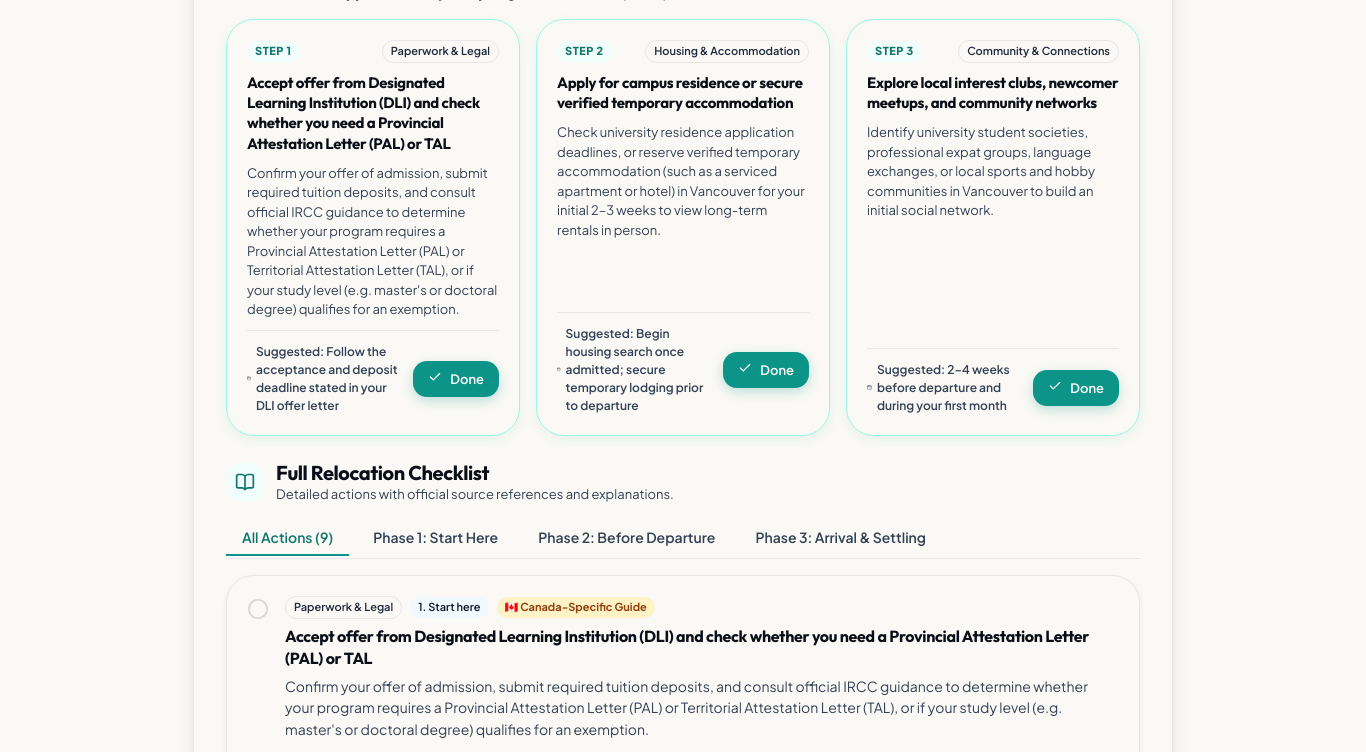
Test: Task 3.1: Planning Content, Guidance & Persistence Corrections › 1. Context Invalidation Followed by One-Click Completion › allows a newly invalidated task to be completed in a single click
(page scrolled)
# Click ONCE to complete
Click the 2nd button "Done" at (766, 370), box left=723, top=352, right=809, bottom=388
(page scrolled)
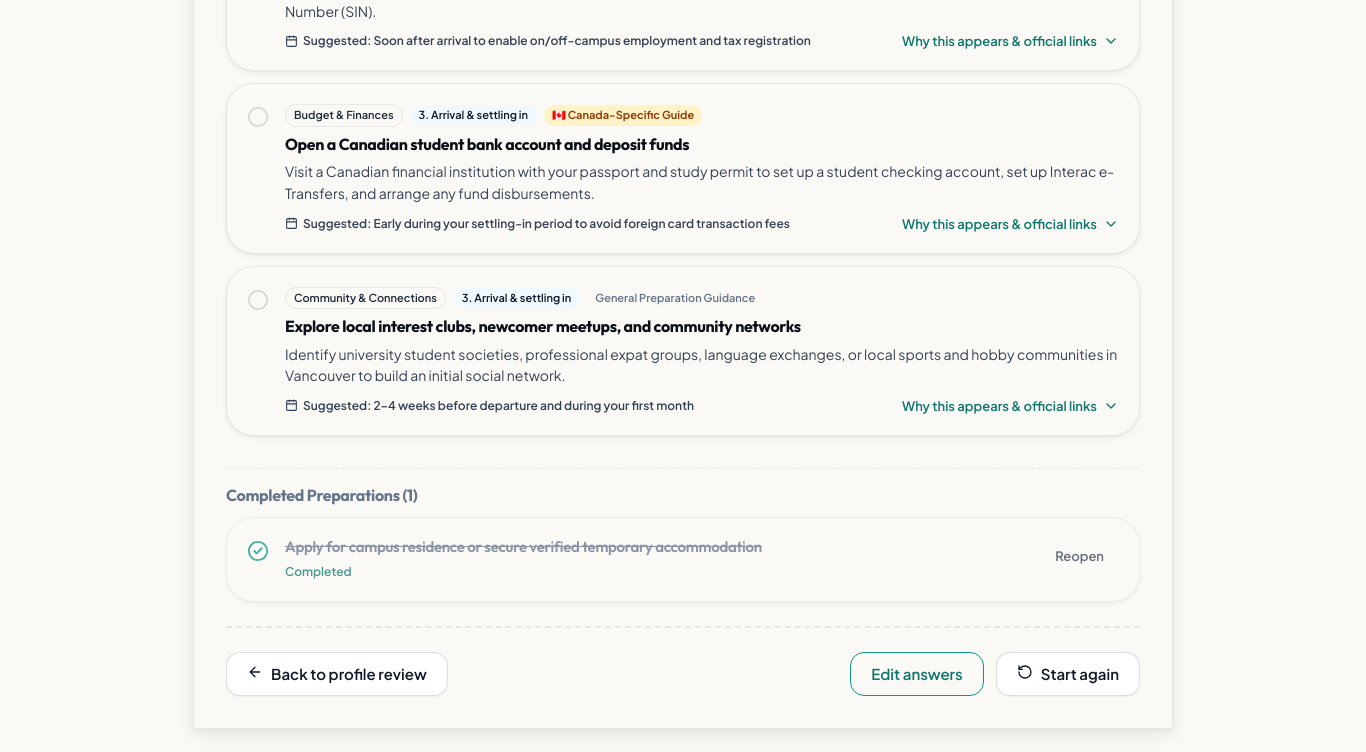
Expected: the button named "Reopen task \"Apply for campus residence or secure verified t" is shown, left=247, top=540, right=269, bottom=562
